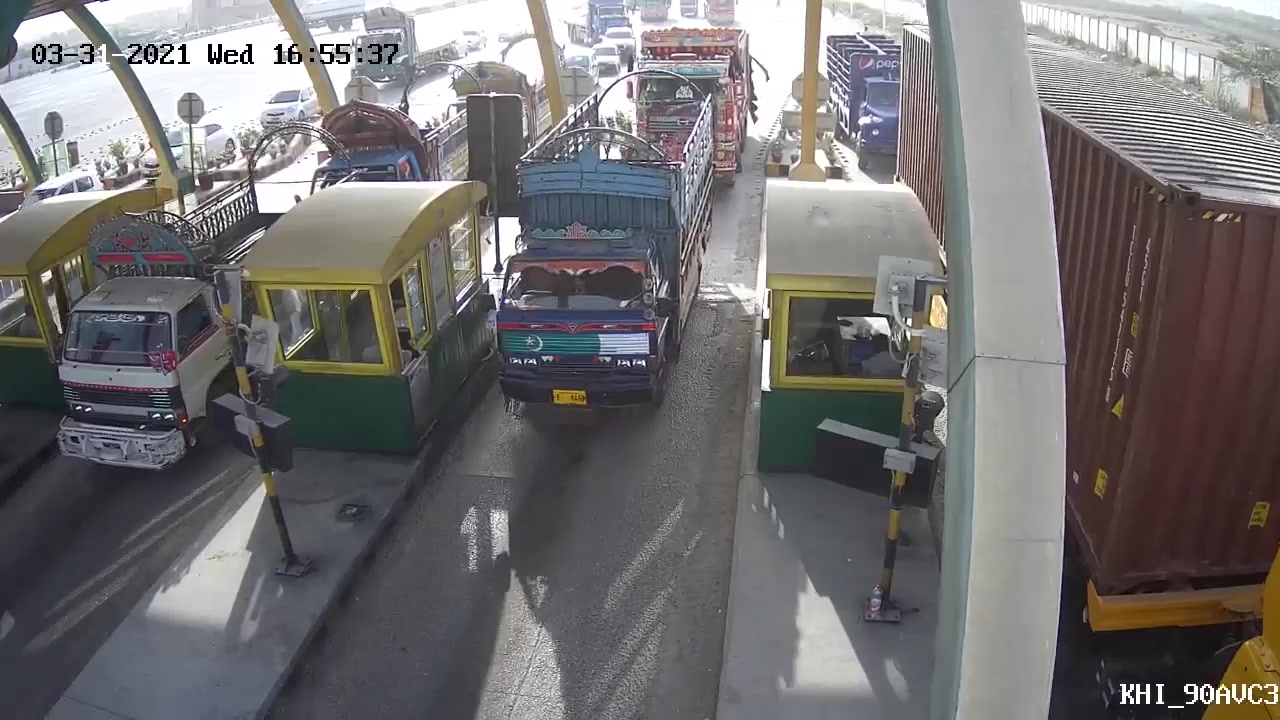F5: (490, 73, 718, 434)
